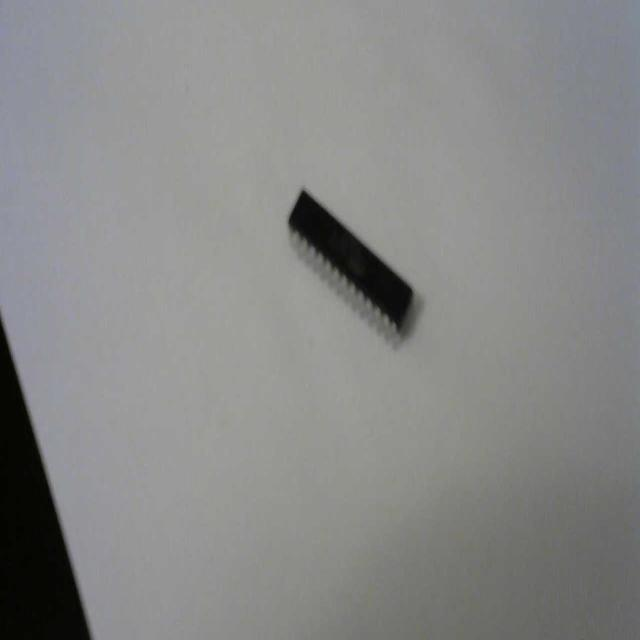atmega: (284, 183, 416, 343)
